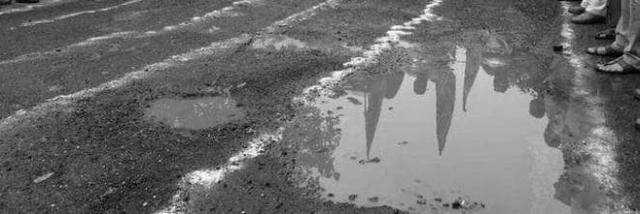Pothole: (292, 34, 638, 214), (250, 21, 364, 82), (134, 90, 253, 146), (81, 4, 187, 40)
